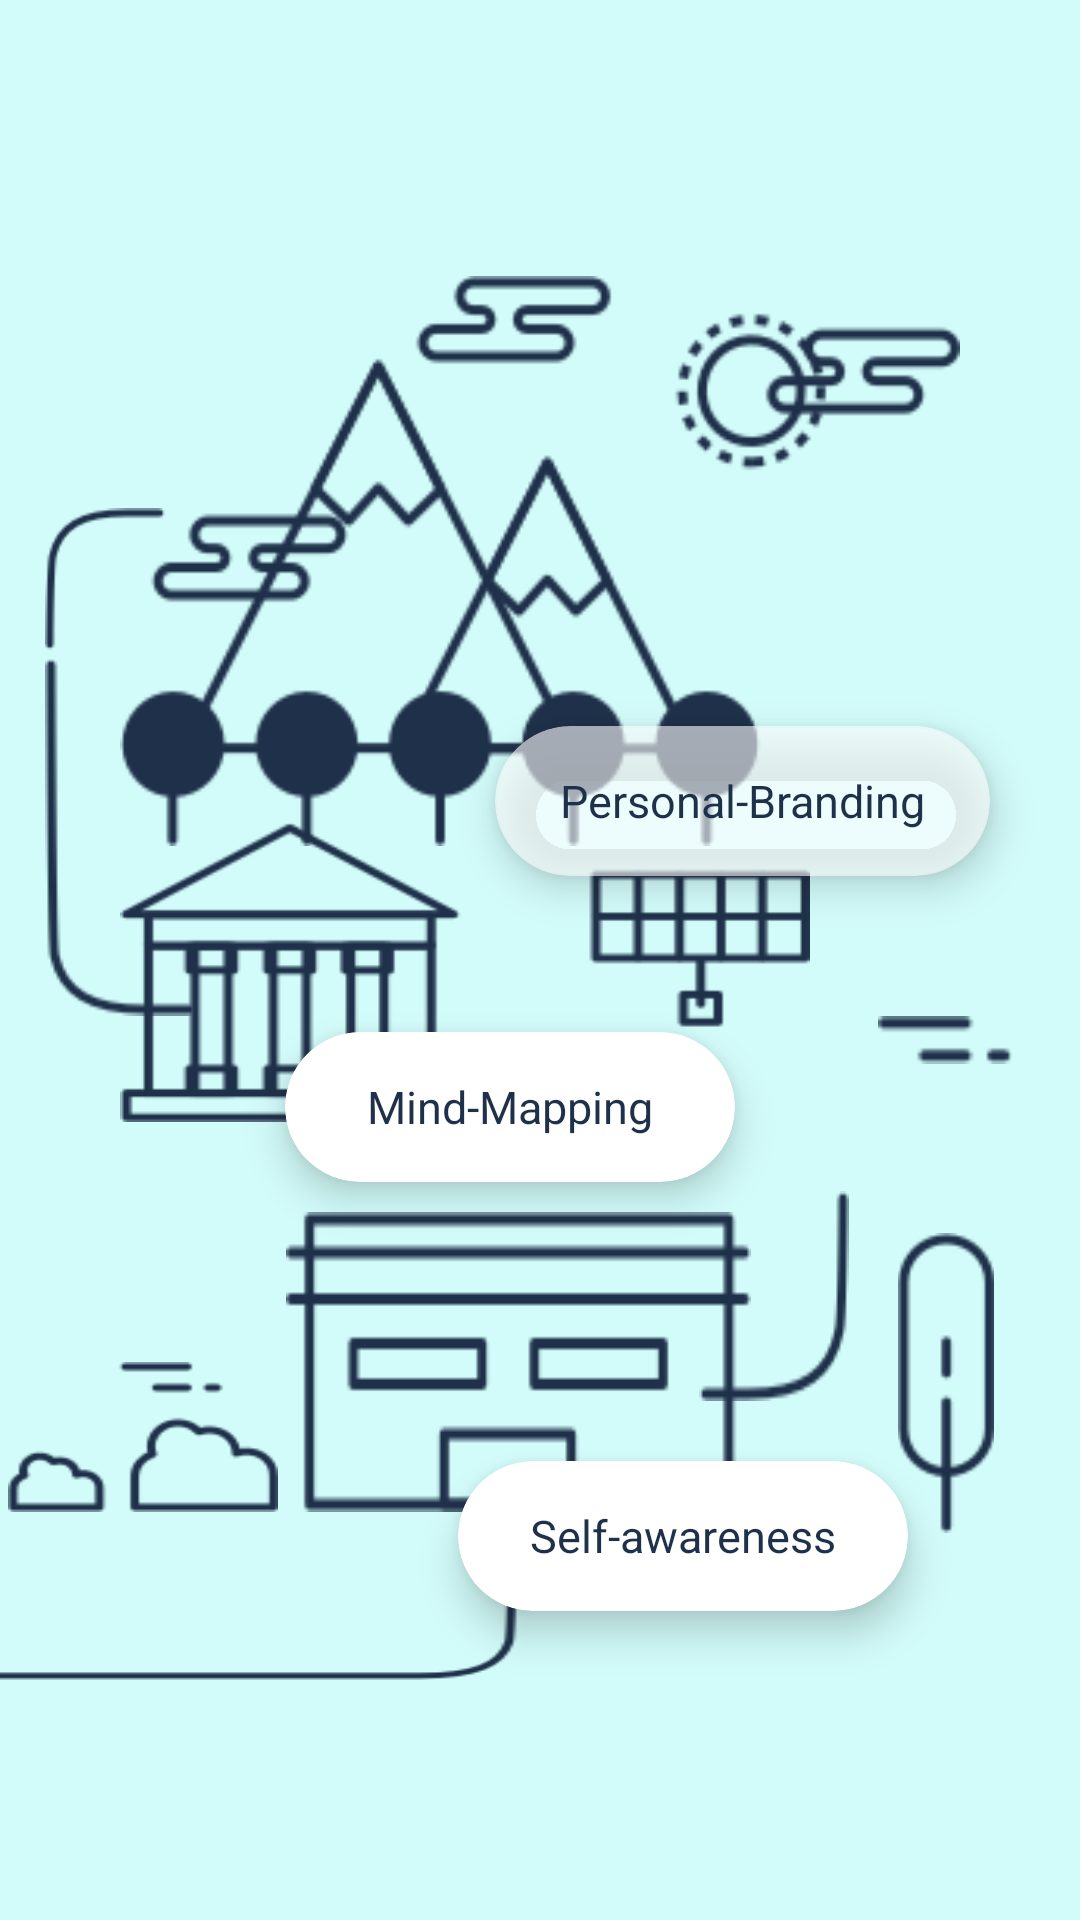

Screen size 1080w x 1920h. Icon name, then its center in pixels as (x,y):
lines: (944,1040)
tree: (946,1383)
